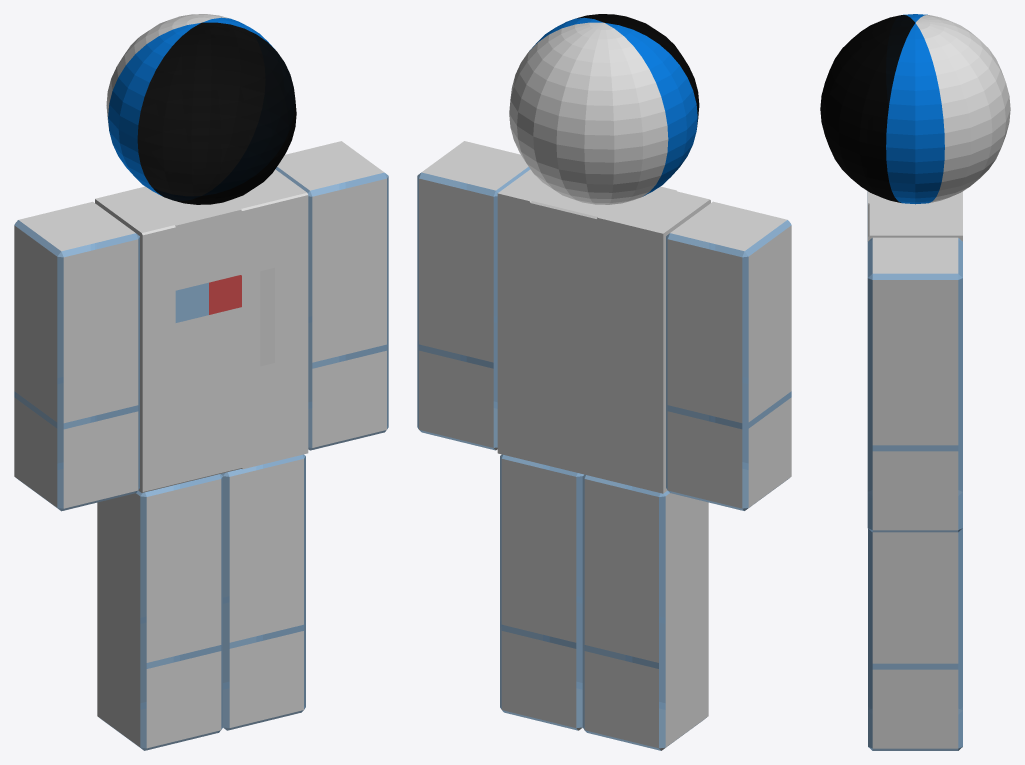
Rendered from Player Prefab1.fbx.
The picture shows the model from 3 angles, left to right: view 1: azimuth 30°, elevation 25°; view 2: azimuth 150°, elevation 25°; view 3: azimuth 270°, elevation 25°; orthographic projection.
Visible parts, largest first — view 1: pbody, pleg_L2, pleg_R, phead, pleg_L1, pleg_L; view 2: pbody, pleg_L2, pleg_R, phead, pleg_L1, pleg_L; view 3: pleg_L1, phead, pleg_L, pbody.
Part boxes in pixels (bbox=[...]): pbody: bbox=[95, 169, 308, 492]; pleg_L2: bbox=[14, 201, 139, 511]; pleg_R: bbox=[97, 474, 222, 750]; phead: bbox=[106, 14, 296, 204]; pleg_L1: bbox=[275, 141, 388, 450]; pleg_L: bbox=[220, 454, 305, 730]; pbody: bbox=[497, 169, 710, 493]; pleg_L2: bbox=[666, 201, 791, 510]; pleg_R: bbox=[582, 474, 708, 750]; phead: bbox=[509, 14, 699, 204]; pleg_L1: bbox=[417, 141, 530, 450]; pleg_L: bbox=[500, 454, 583, 730]; pleg_L1: bbox=[867, 237, 962, 532]; phead: bbox=[820, 14, 1010, 204]; pleg_L: bbox=[868, 528, 962, 750]; pbody: bbox=[868, 191, 962, 241].
Bounding box in the file's own units: 16.01 × 32 × 8.
